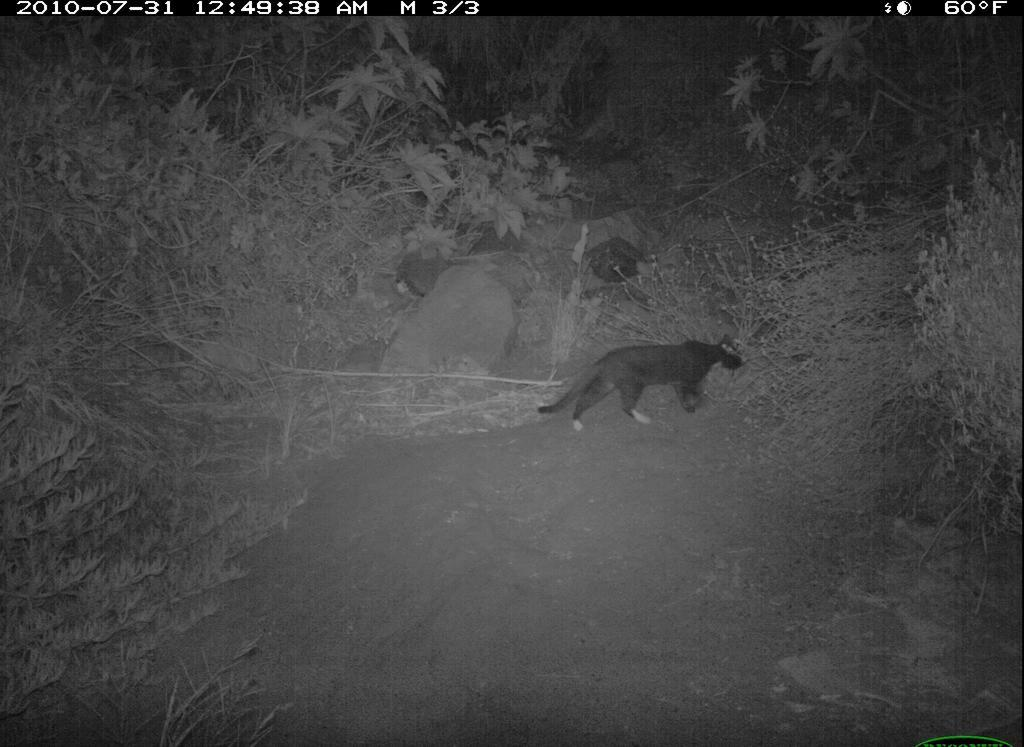cat: (537, 336, 757, 436)
